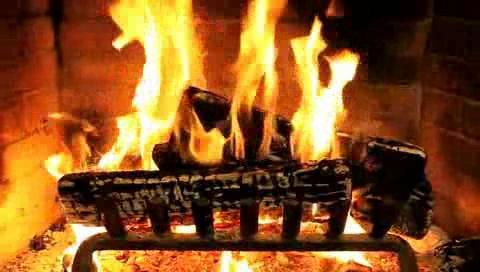fire: (111, 0, 346, 163)
